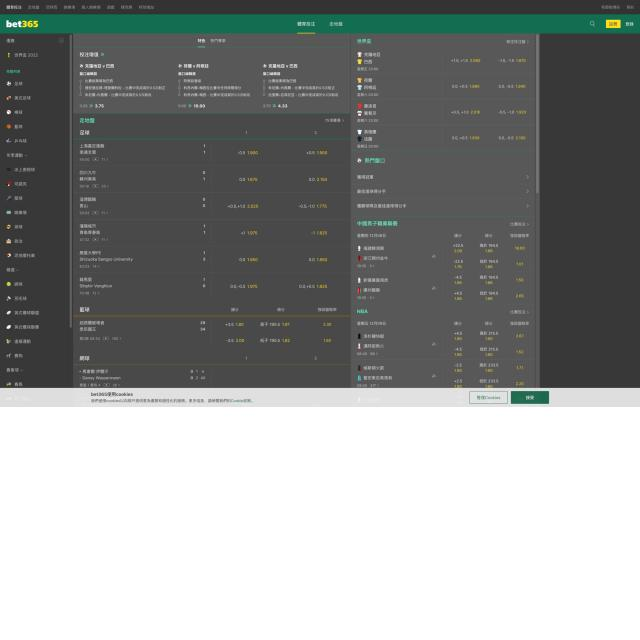logo: (5, 18, 40, 32)
navigation: (5, 3, 155, 12)
